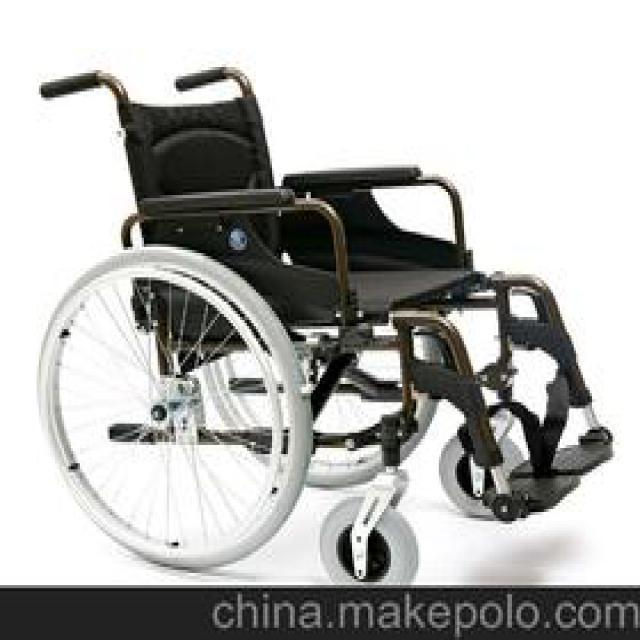wheelchair: (25, 55, 636, 582)
